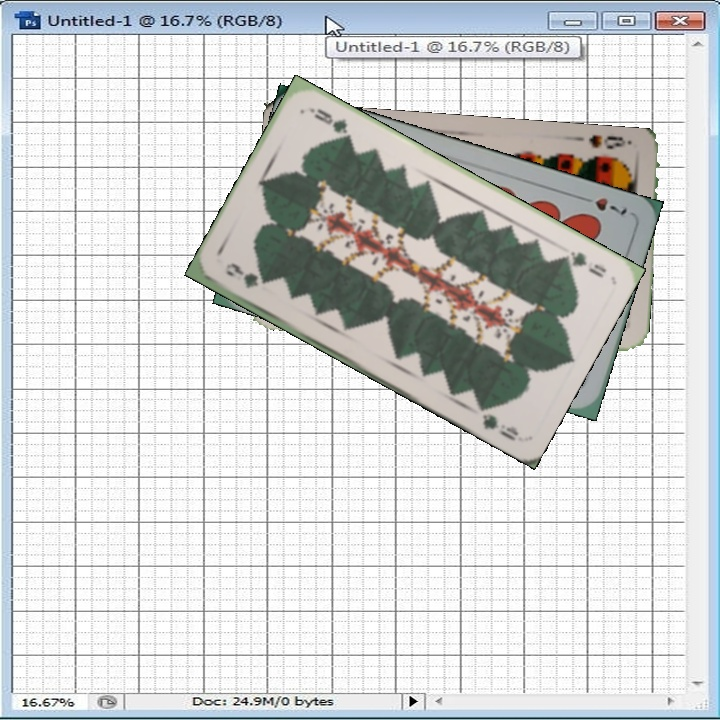G9: (555, 247, 609, 281), (221, 259, 261, 291)
H7: (574, 191, 630, 218)
S8: (584, 131, 634, 152)
